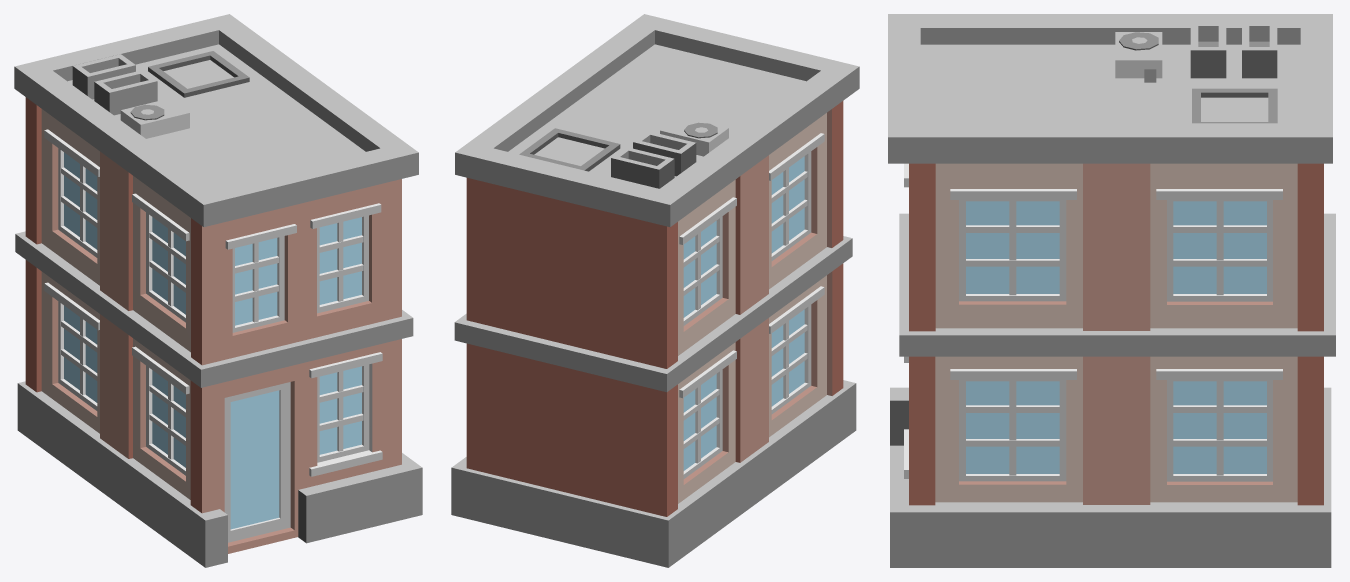
File: house_small_1_006.glb
3 views of the same model, side by side, from view 1: azimuth 30°, elevation 25°; view 2: azimuth 150°, elevation 25°; view 3: azimuth 270°, elevation 25° (orthographic). The views are drawn at different scales.
Visible parts, largest first — view 1: house_small_1_006; view 2: house_small_1_006; view 3: house_small_1_006.
Boxes of the visible parts, left/top/right/bottom form: house_small_1_006: left=14, top=14, right=422, bottom=567; house_small_1_006: left=451, top=14, right=859, bottom=567; house_small_1_006: left=888, top=14, right=1335, bottom=567.
Bounding box in the file's own units: 3.69 × 5.99 × 5.54.
1 material, 1 textured.
